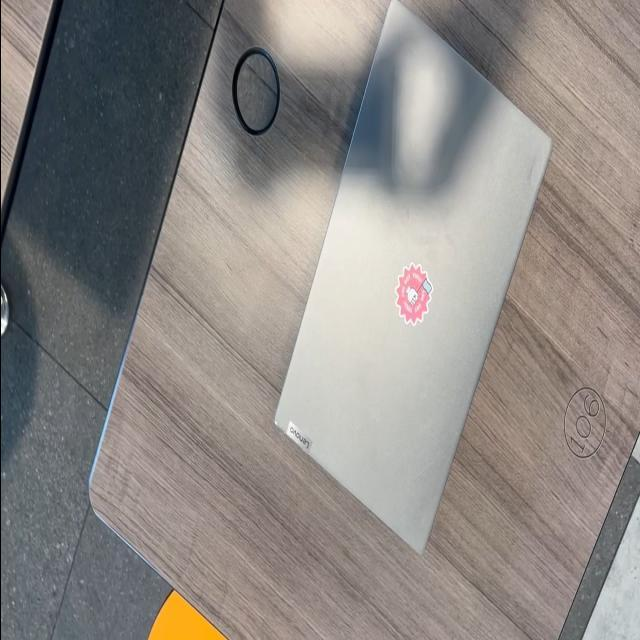laptop: (271, 0, 552, 555)
